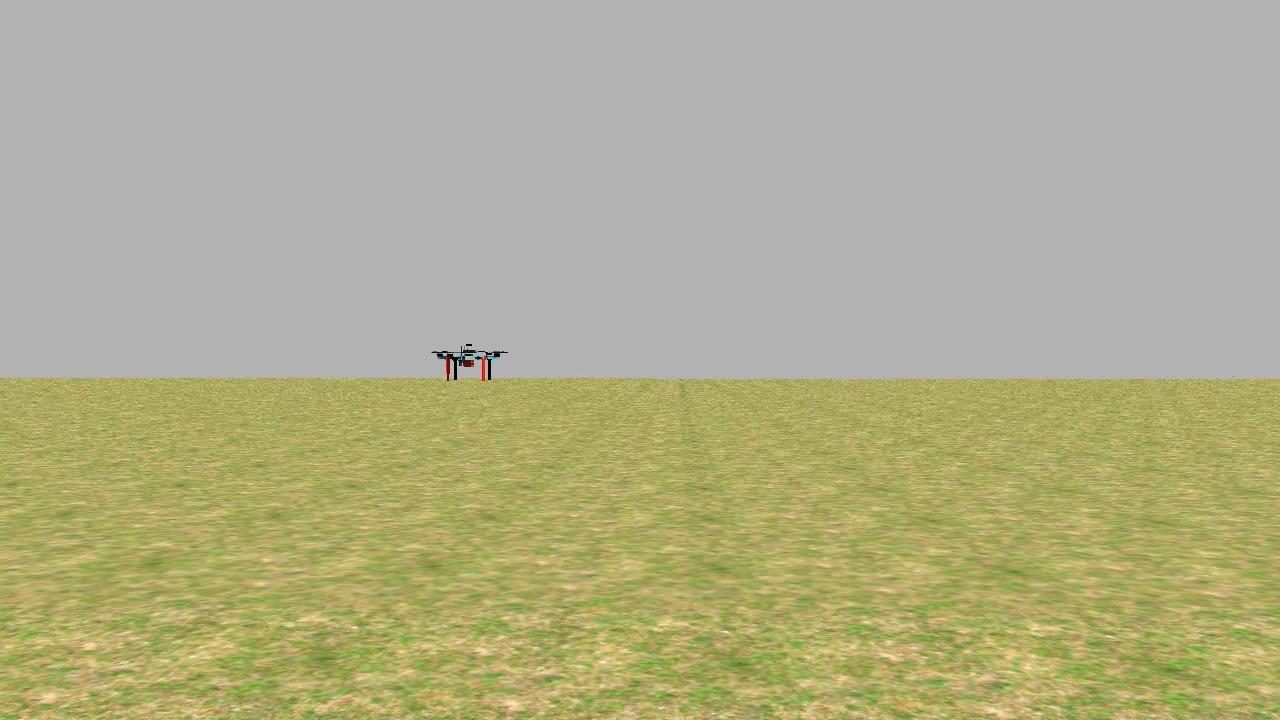UAV: (430, 342, 508, 390)
